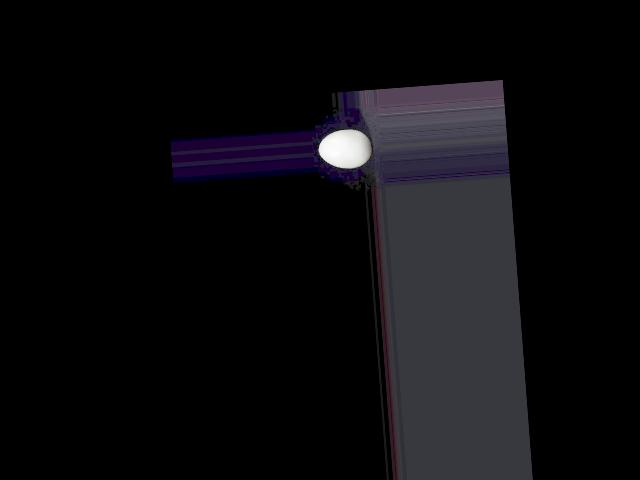egg: (317, 127, 373, 169)
